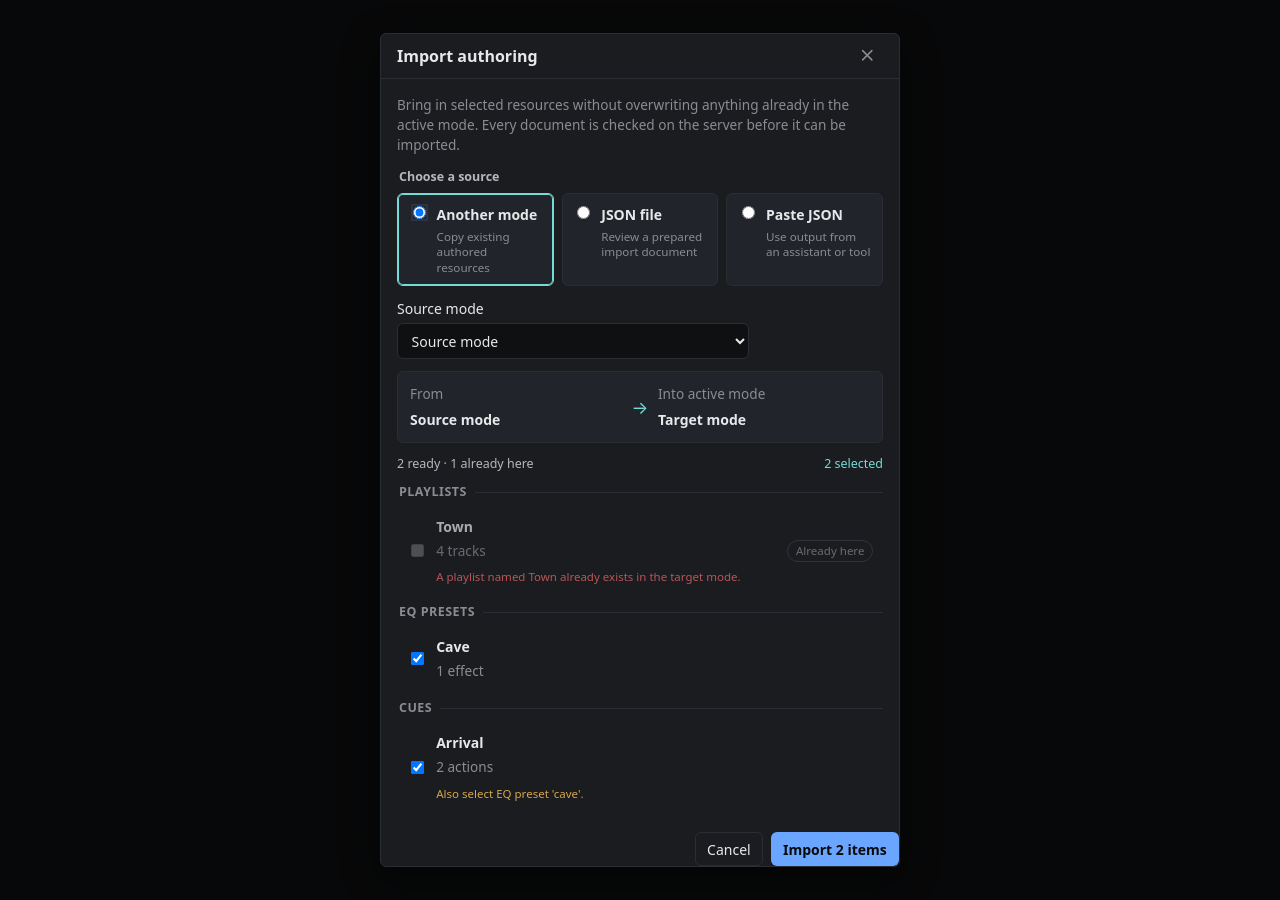
Test case: AuthoringImportModal › blocks a selection when a required related item is deselected
The image size is (1280, 900).
Expected: the checkbox labelled "Arrival 2 actions Also select EQ preset 'cave'." is shown, [411,760,424,774]
Click the checkbox labelled "Cave 1 effect" at (417, 659), box [411,652,424,665]
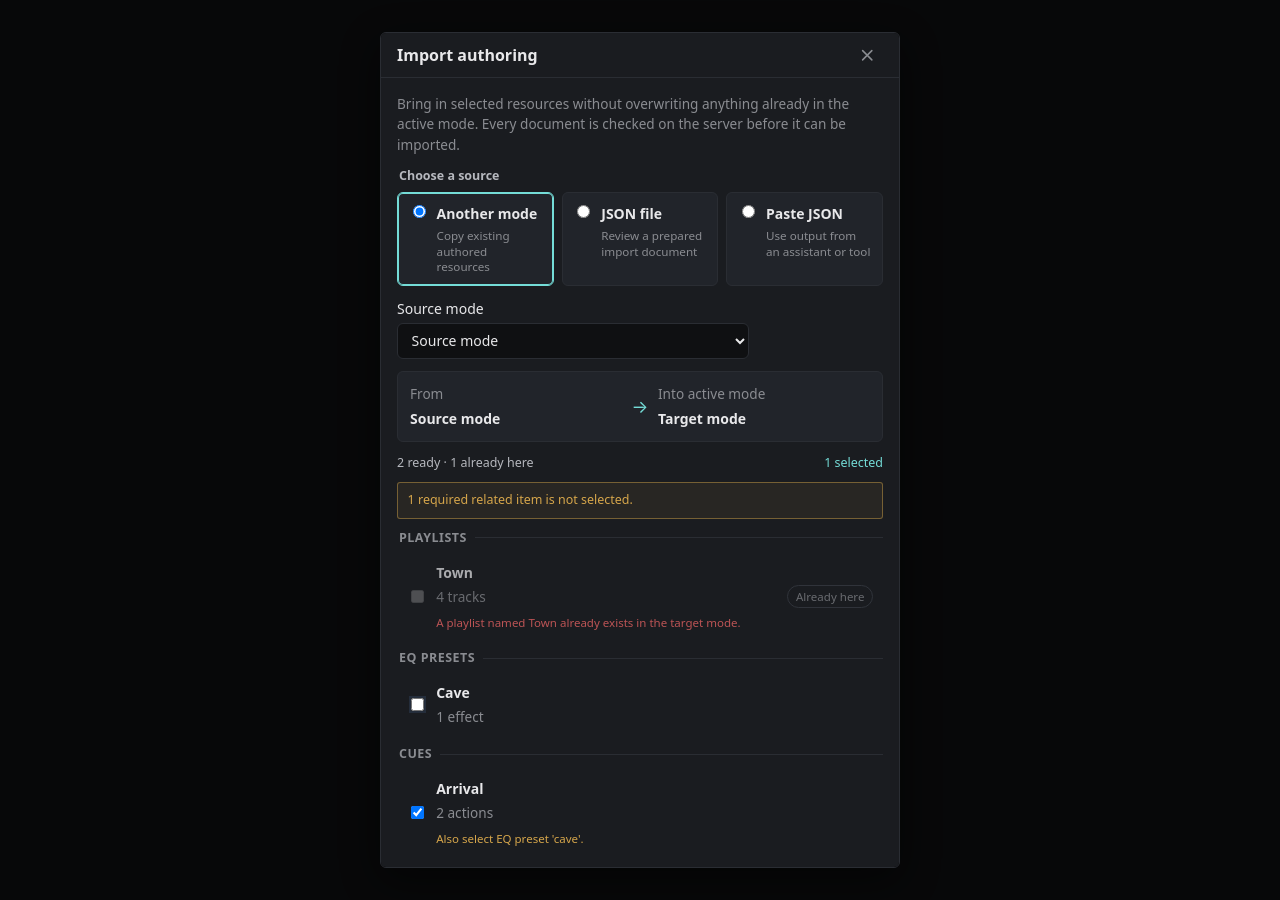
Expected: the message shows "1 required related item is not selected", [397,482,883,519]
